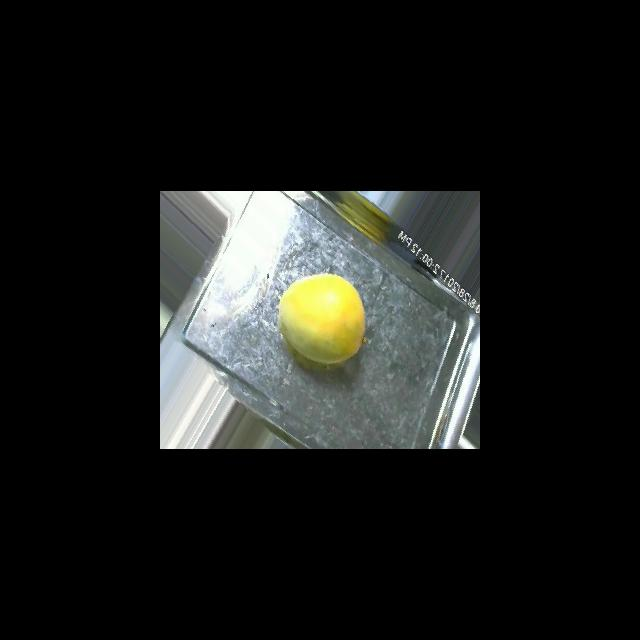Mango: (278, 272, 365, 364)
